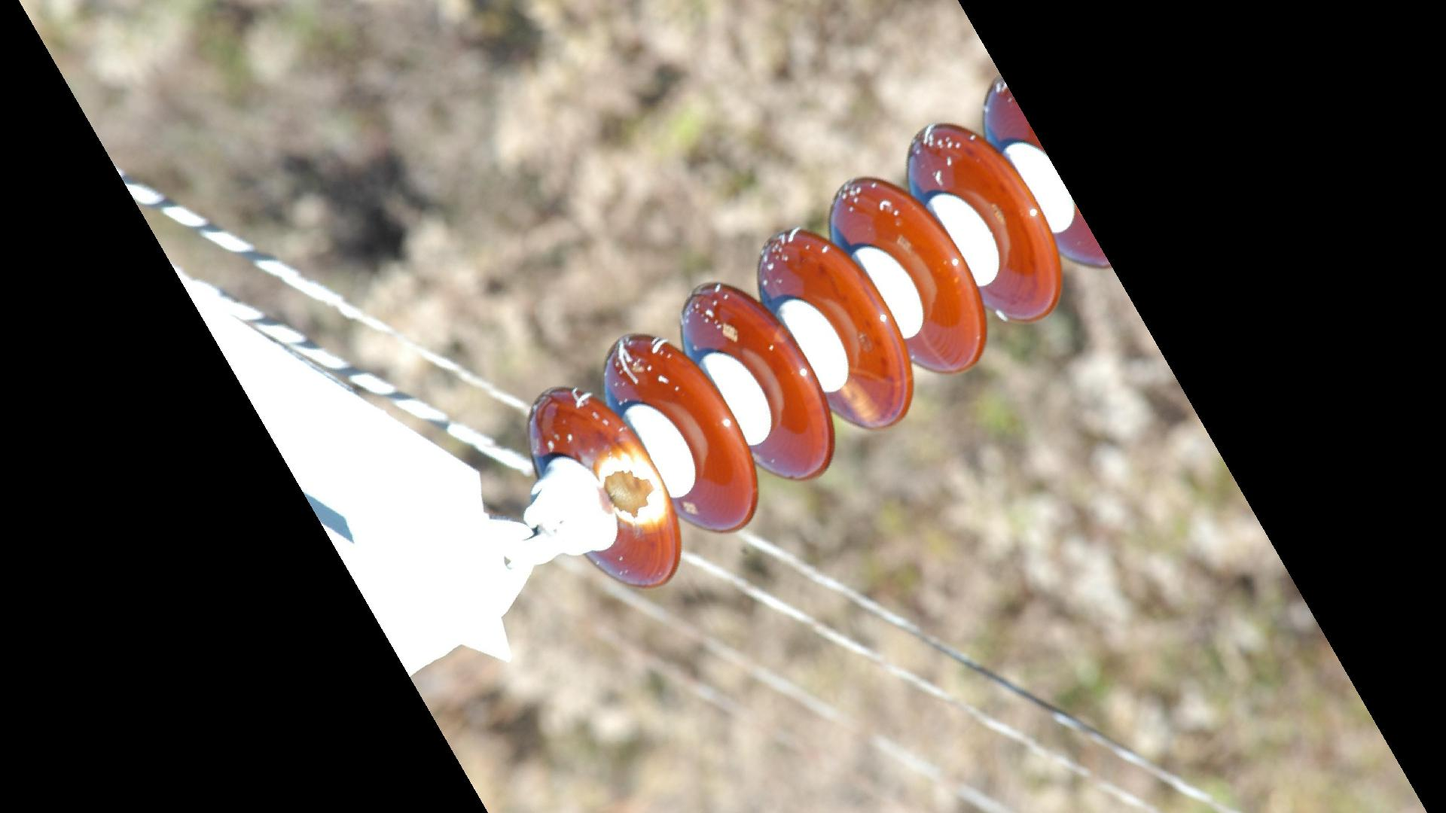insulator: (522, 74, 1115, 595)
insulator_flashover: (594, 442, 673, 532), (838, 374, 885, 428)
